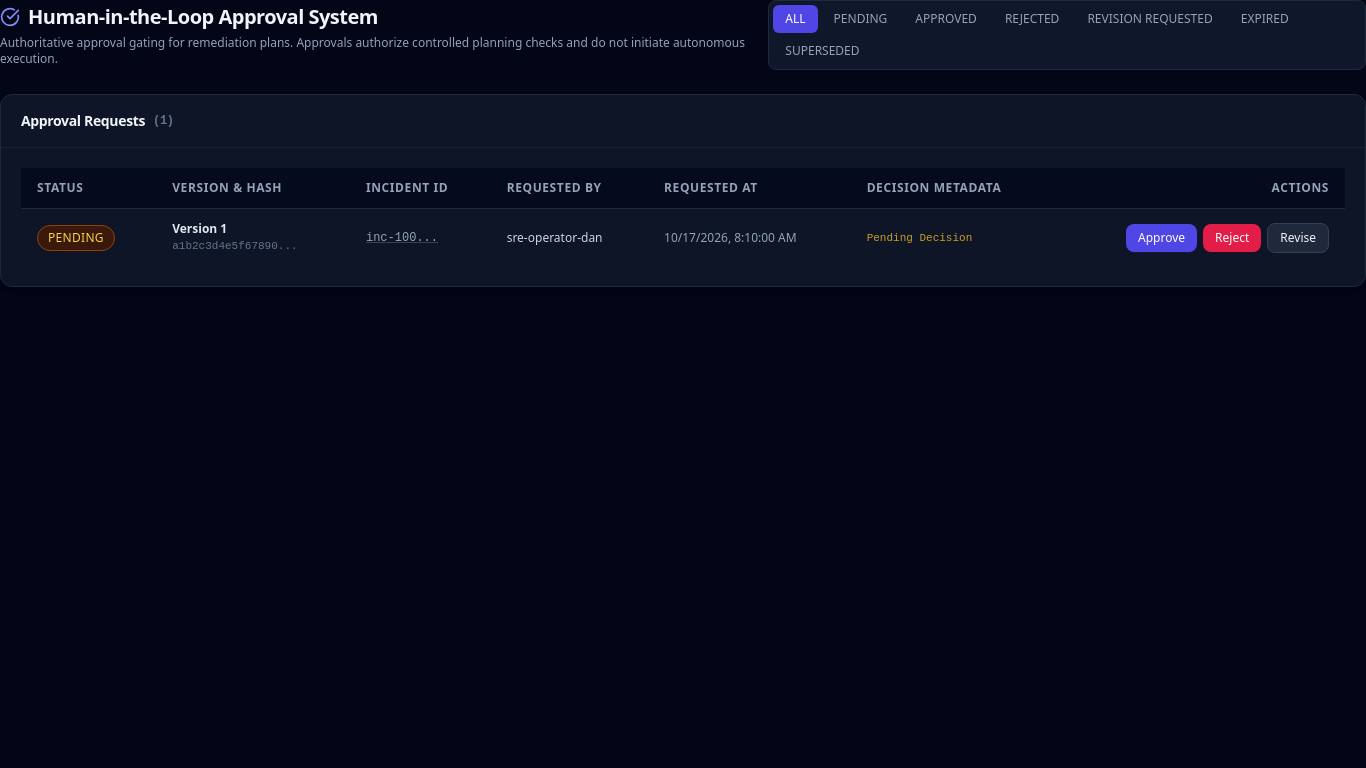
Test: ApprovalsPage & Human-in-the-Loop Decisions › validates mandatory rejection reason before submitting rejection
Click the button "Reject" at (1232, 238), box top-left (1203, 224), bottom-right (1261, 252)
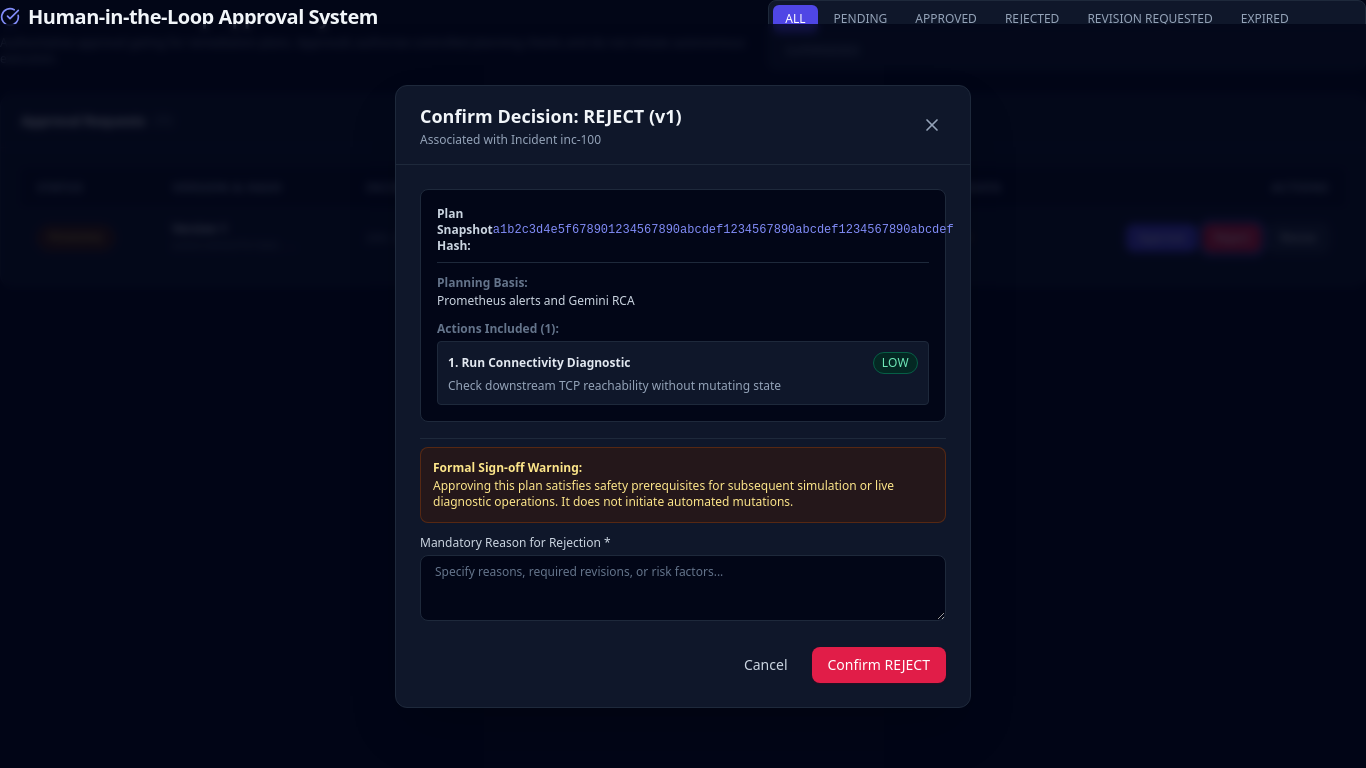
expect the text "Mandatory Reason for Rejection *" is shown: met, box top-left (420, 534), bottom-right (611, 550)
# Attempt to submit rejection without entering reason
Click the button "Confirm REJECT" at (879, 664), box top-left (812, 646), bottom-right (946, 682)
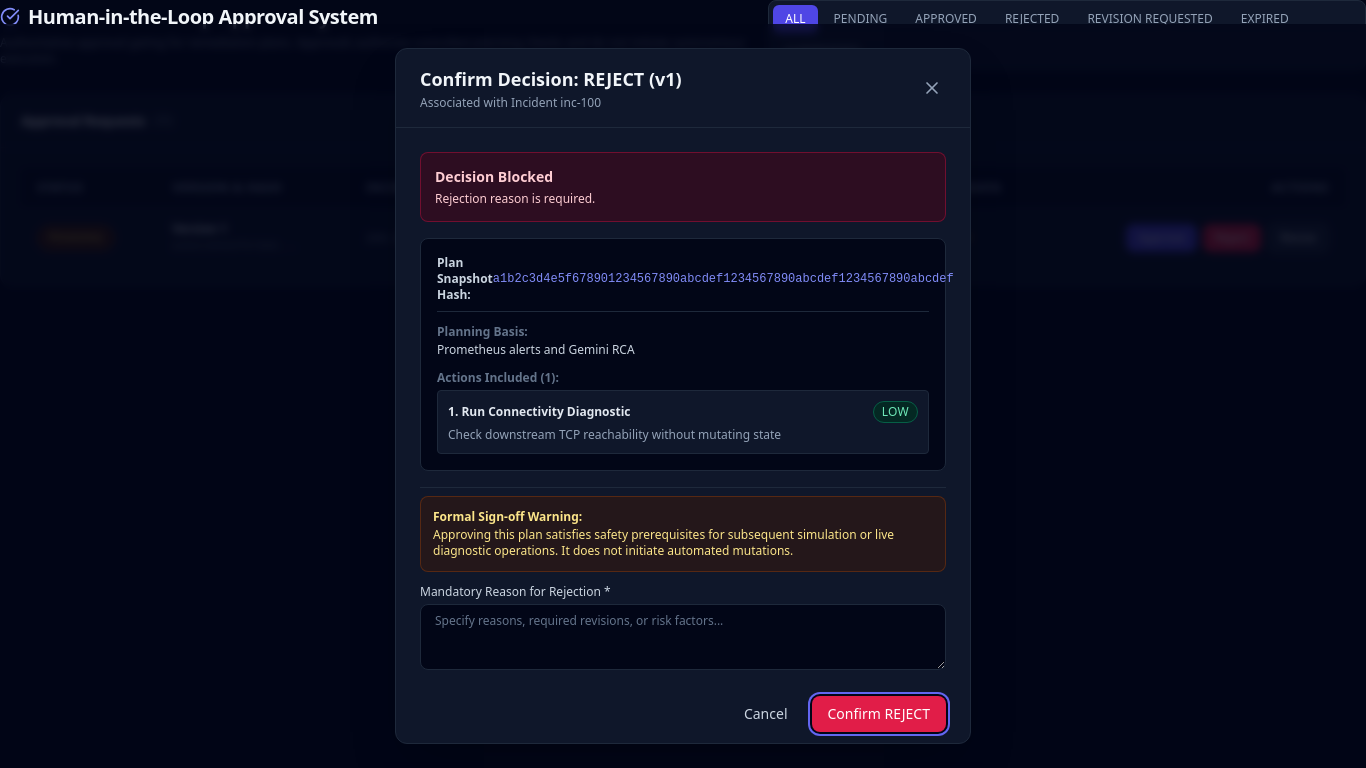
expect the text "Rejection reason is required." is shown: met, box top-left (435, 190), bottom-right (595, 207)
